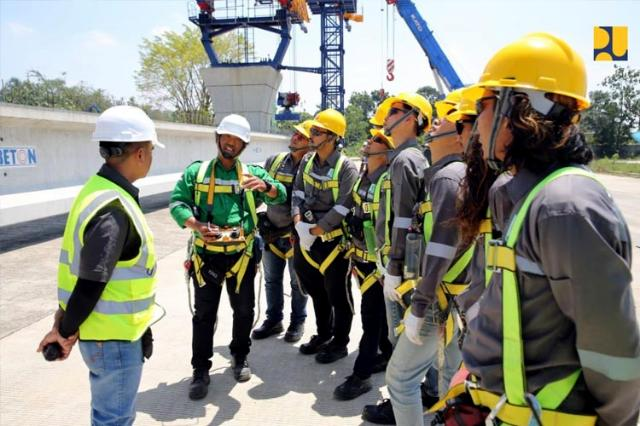helmet: (468, 36, 600, 100), (90, 100, 164, 148), (392, 90, 433, 134), (449, 86, 491, 120), (310, 107, 346, 140), (213, 114, 251, 144), (367, 94, 397, 121), (432, 92, 474, 110), (369, 121, 396, 149), (292, 114, 312, 139)
vest: (479, 163, 595, 426), (66, 173, 154, 335), (299, 156, 349, 264), (426, 182, 472, 294), (198, 159, 252, 253), (353, 176, 382, 264), (387, 172, 409, 288), (270, 154, 294, 252)
